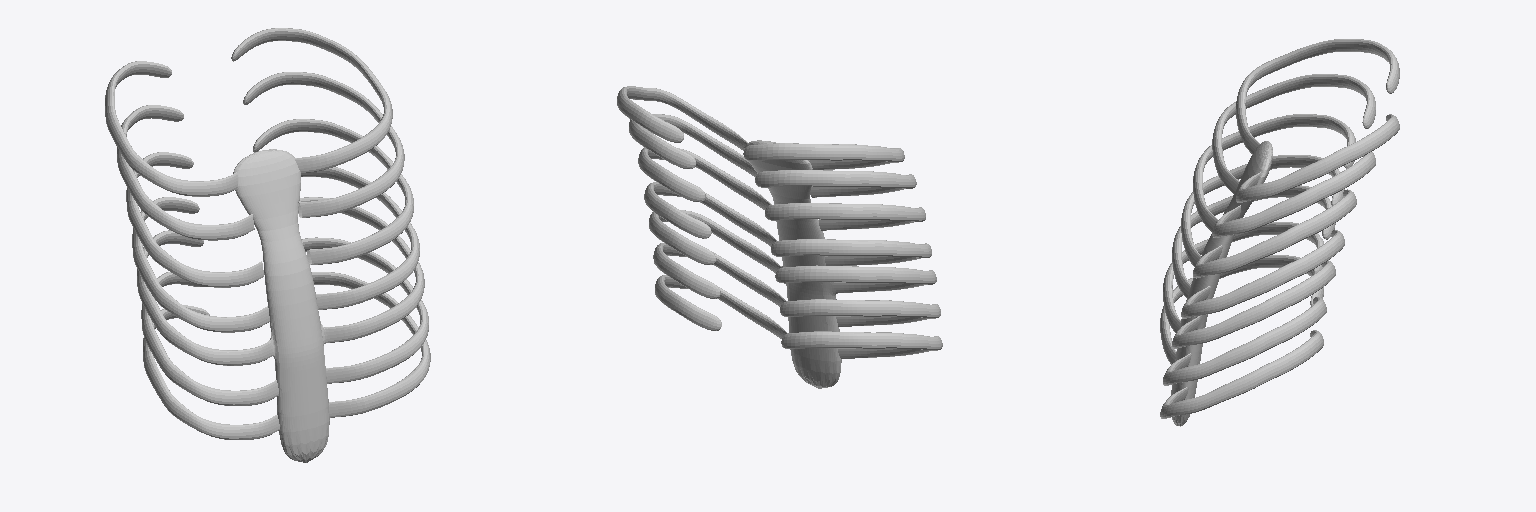
File: ribcage.obj
The picture shows the model from 3 angles: view 1: azimuth 30°, elevation 25°; view 2: azimuth 150°, elevation 25°; view 3: azimuth 270°, elevation 25°; orthographic projection.
Visible parts, largest first — view 1: Cylinder_Cylinder.002; view 2: Cylinder_Cylinder.002; view 3: Cylinder_Cylinder.002.
Boxes of the visible parts, box(x1,y1,x2,y2) form: Cylinder_Cylinder.002: box(105, 28, 430, 462); Cylinder_Cylinder.002: box(617, 86, 942, 388); Cylinder_Cylinder.002: box(1160, 39, 1399, 426).
Bounding box in the file's own units: 1.37 × 1.7 × 1.09.